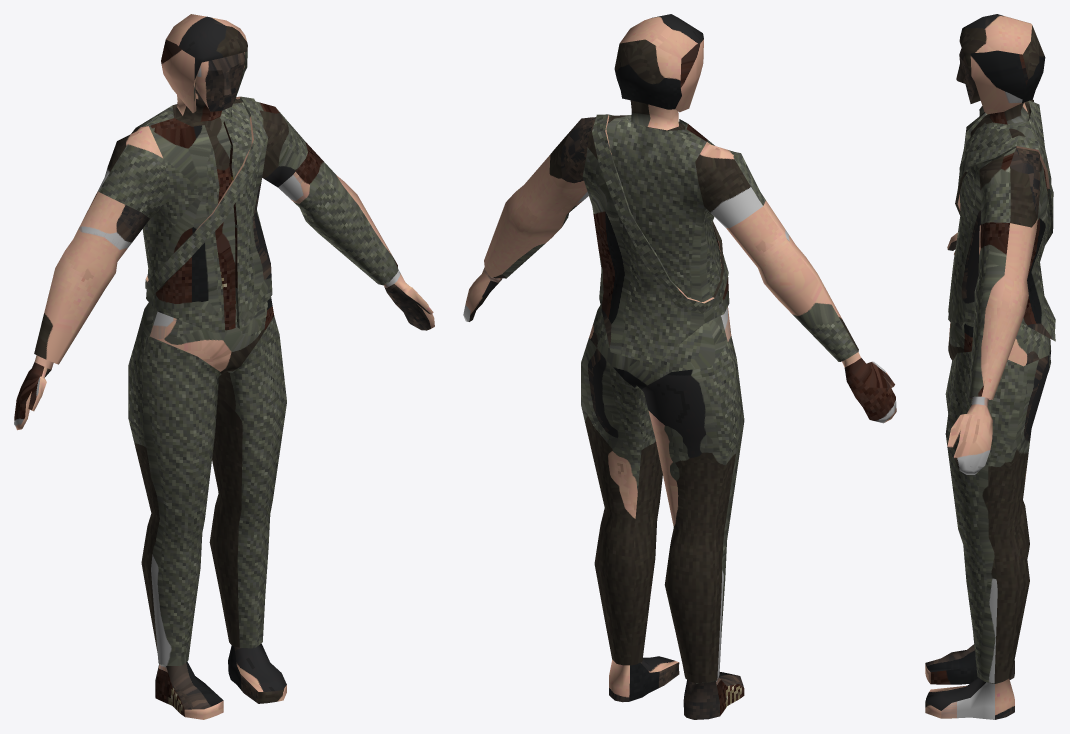
Rendered from spearman.fbx.
The picture shows the model from 3 angles, left to right: view 1: azimuth 30°, elevation 25°; view 2: azimuth 150°, elevation 25°; view 3: azimuth 270°, elevation 25°; orthographic projection. The views are drawn at different scales.
Parts seen in each view (by area): view 1: CHARACTER.002; view 2: CHARACTER.002; view 3: CHARACTER.002.
Boxes of the visible parts, box(x1,y1,x2,y2) form: CHARACTER.002: box(14, 14, 434, 719); CHARACTER.002: box(463, 14, 896, 719); CHARACTER.002: box(925, 14, 1055, 719).
Bounding box in the file's own units: 132 × 202 × 35.19.
